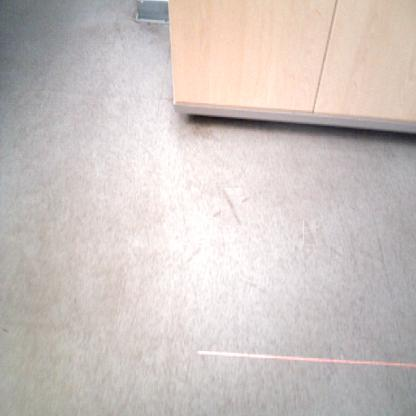mark: (217, 192, 246, 221), (183, 244, 202, 264), (301, 223, 319, 242), (330, 246, 342, 258), (0, 325, 8, 334)
